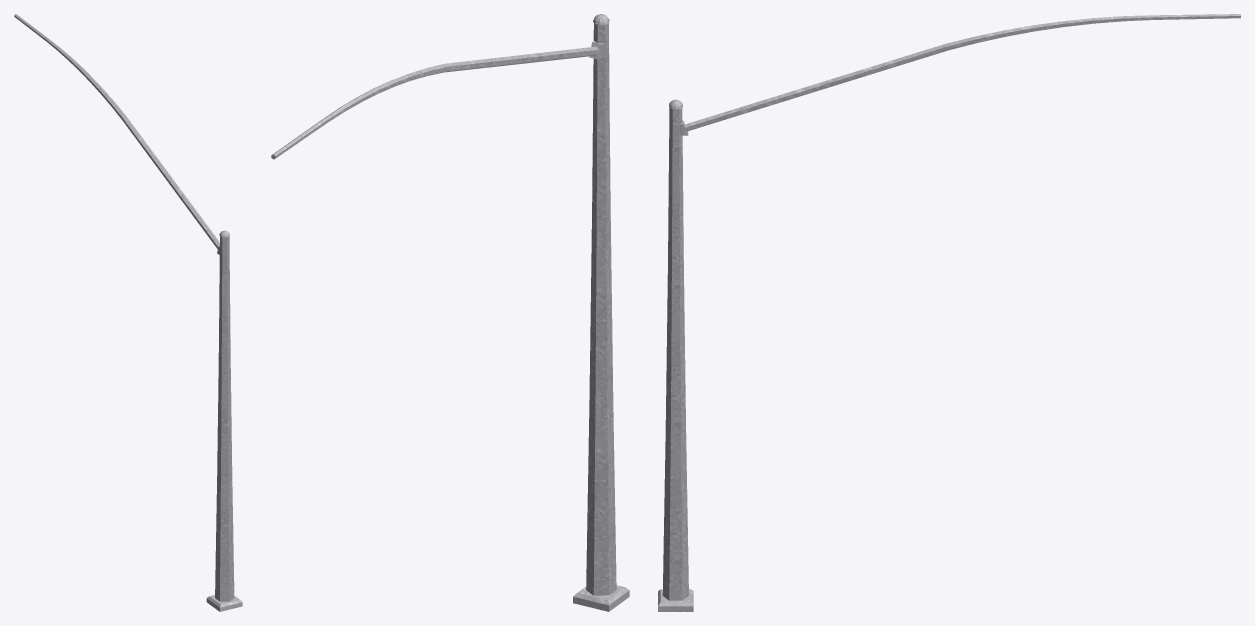
Rendered from Main_Stand.fbx.
3 renders of one model, left to right at view 1: azimuth 30°, elevation 25°; view 2: azimuth 150°, elevation 25°; view 3: azimuth 270°, elevation 25°, orthographic. The views are drawn at different scales.
Visible parts, largest first — view 1: G_00_LIT_st6_1; view 2: G_00_LIT_st6_1; view 3: G_00_LIT_st6_1.
Boxes of the visible parts, x1,y1,x2,y2 form: G_00_LIT_st6_1: (14,14,242,611); G_00_LIT_st6_1: (271,23,629,611); G_00_LIT_st6_1: (658,14,1240,611).
Bounding box in the file's own units: 11.86 × 217 × 194.
